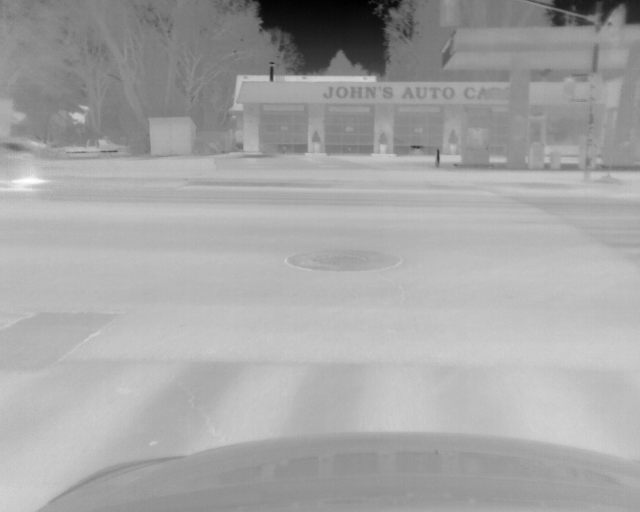car: (1, 135, 42, 195)
